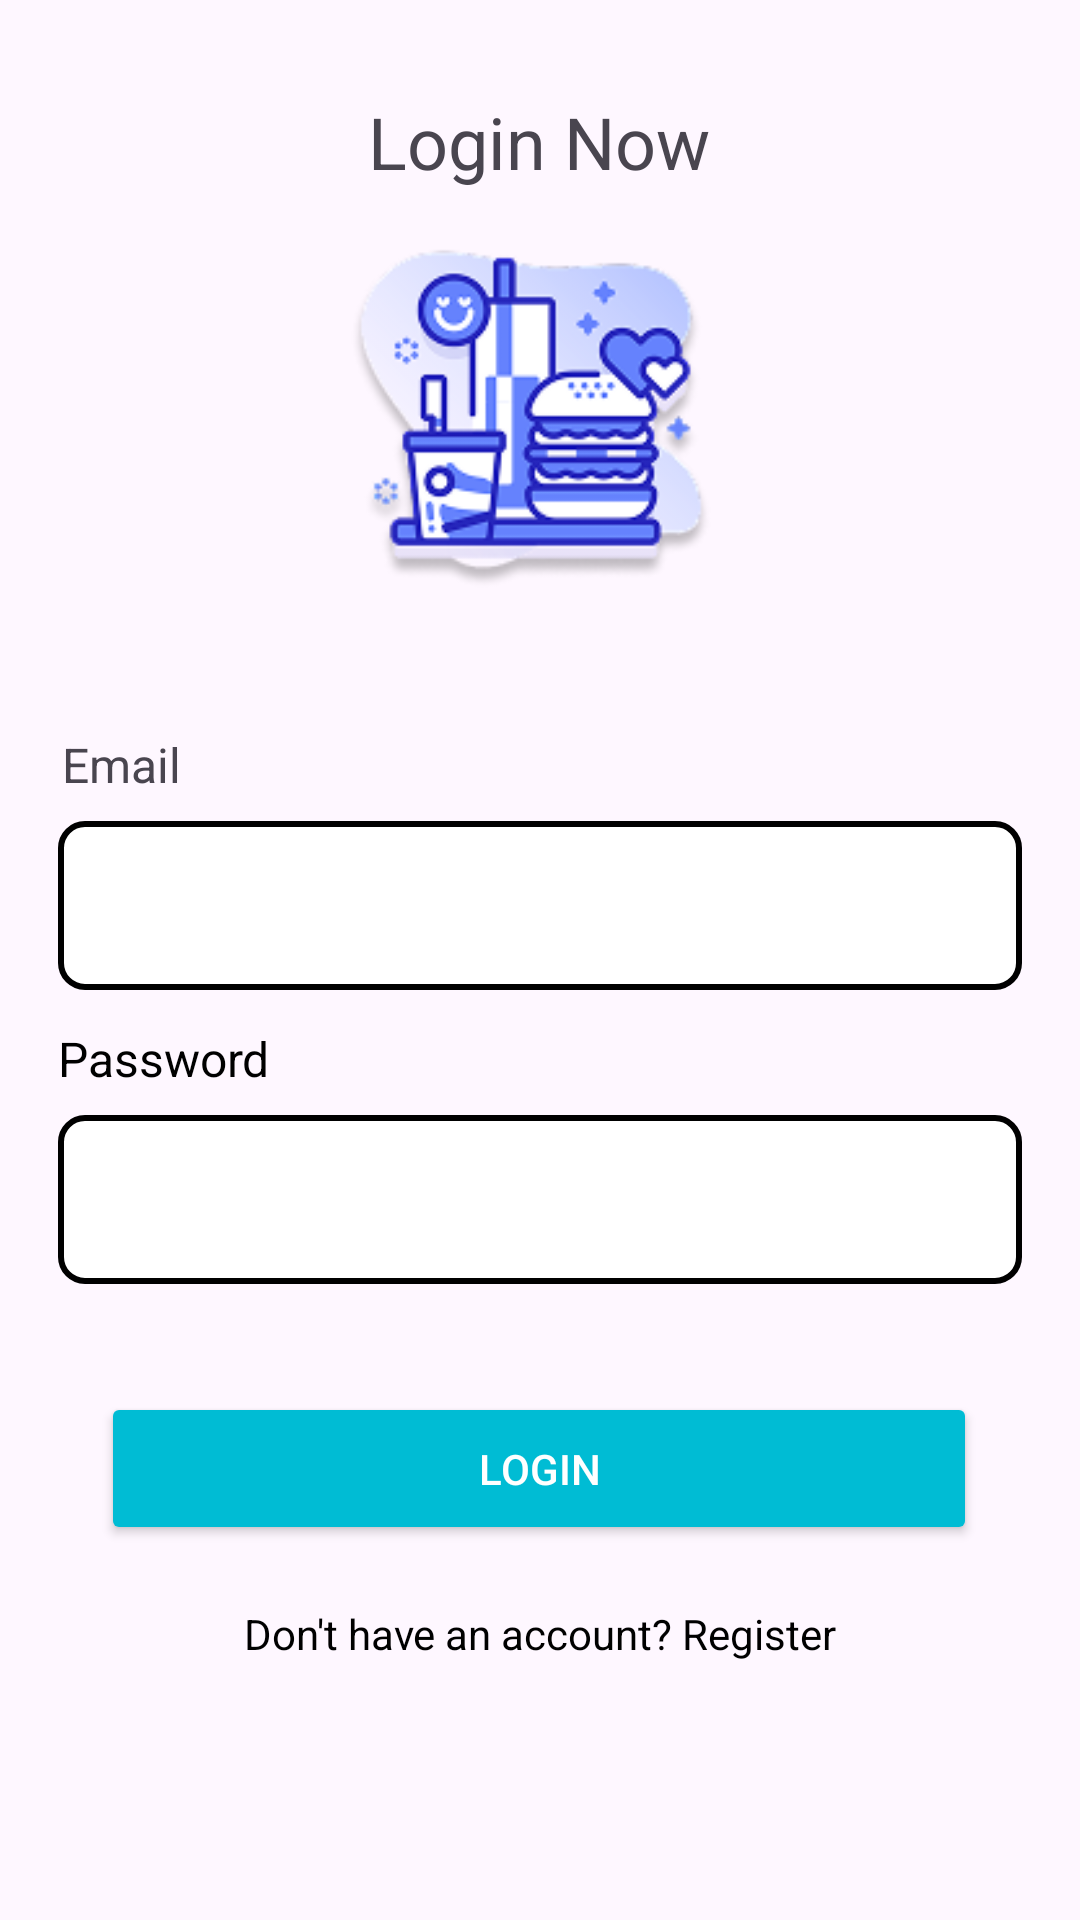

Icons on this 1080px×1920px Android screen, each with the point to tap as [x,y]:
food: [531,415]
